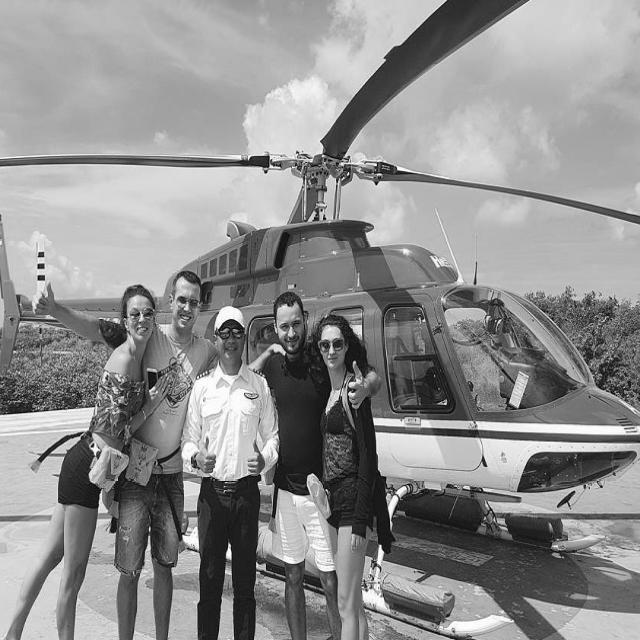helicopter: (1, 34, 640, 640)
